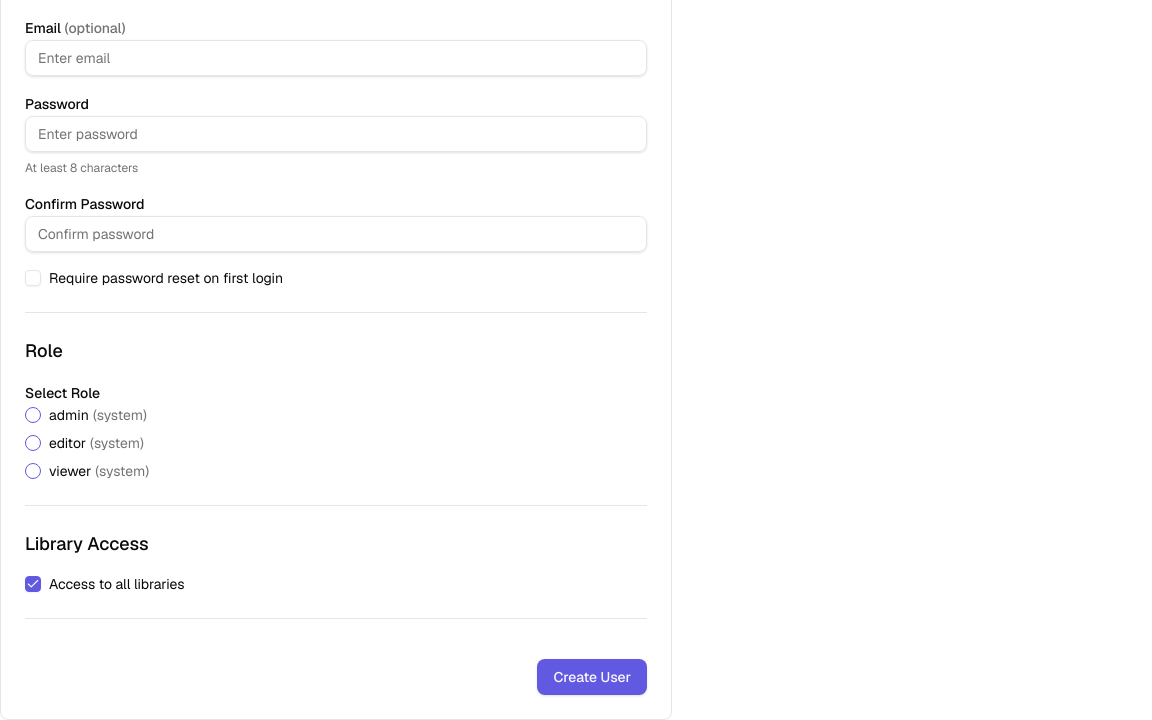
it: CreateUser › names the library checkboxes with their heading
(page scrolled)
Click the checkbox named "Access to all libraries" next to "Access to all libraries" at x=33, y=584, box [25, 576, 41, 592]
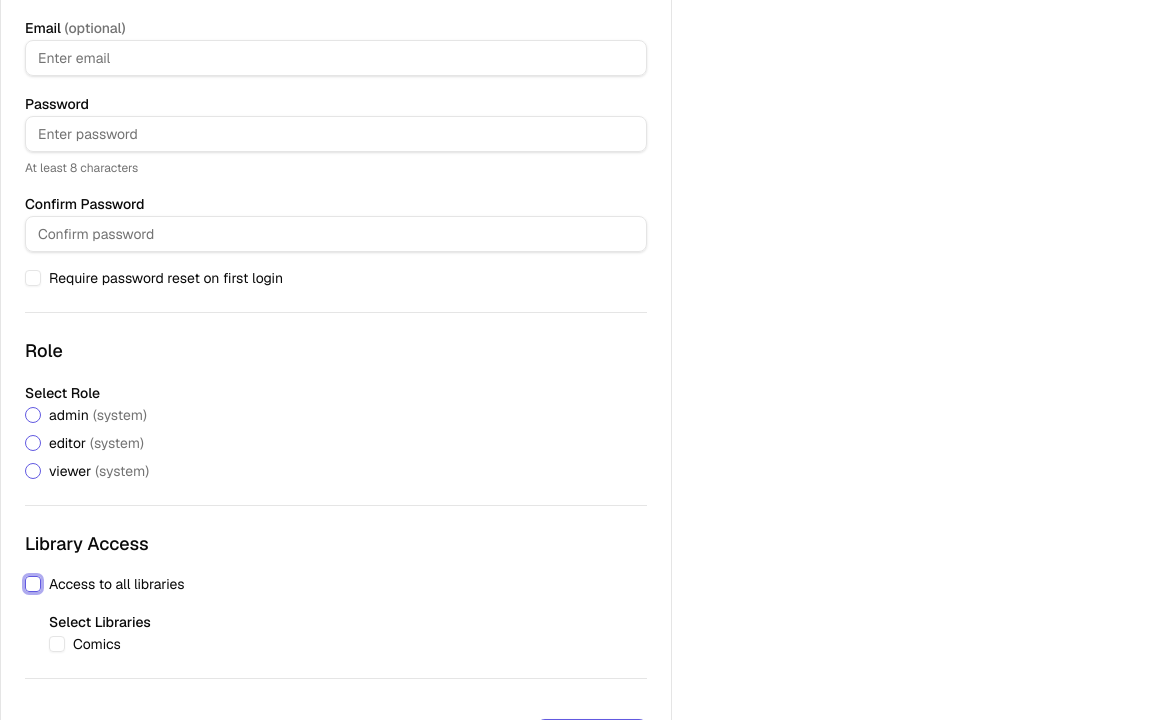
expect the checkbox named "Comics" next to "Comics" is shown: met, box [49, 636, 65, 652]
